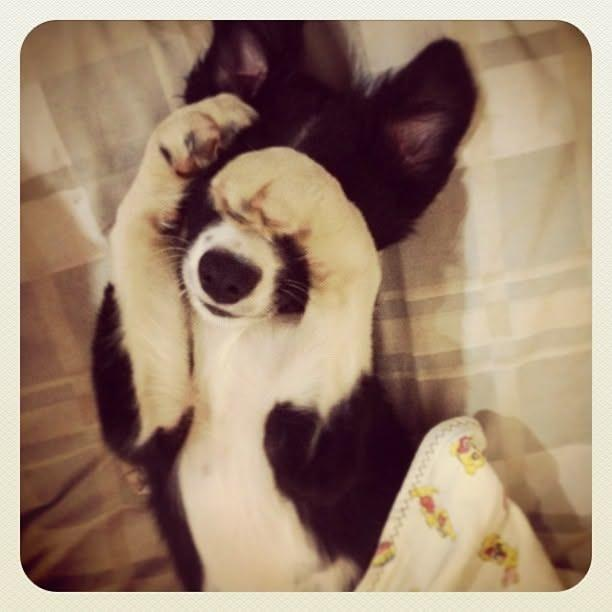puppy-dog: (94, 15, 484, 594)
